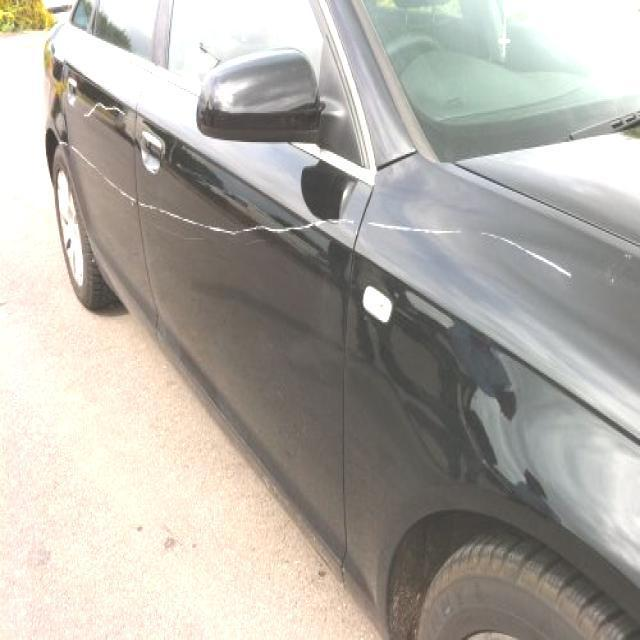minor: (76, 145, 591, 299)
